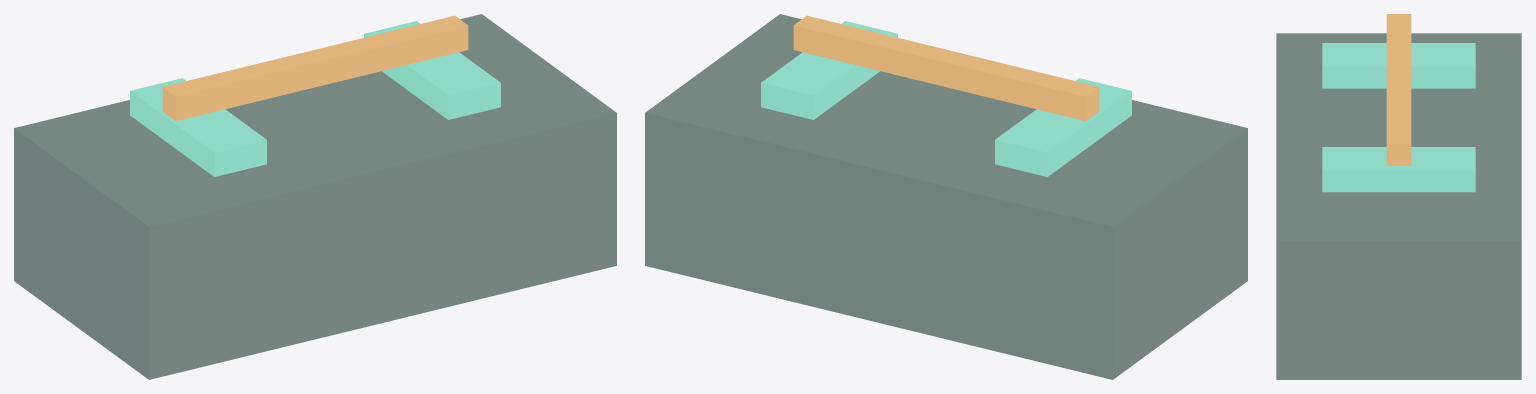
The picture shows the model from 3 angles, left to right: view 1: azimuth 30°, elevation 25°; view 2: azimuth 150°, elevation 25°; view 3: azimuth 270°, elevation 25°; orthographic projection. The views are drawn at different scales.
Visible parts, largest first — view 1: box, link, hasp_0, hasp_1; view 2: box, link, hasp_0, hasp_1; view 3: box, hasp_1, hasp_0, link.
Boxes of the visible parts, x1,y1,x2,y2 form: box: [14, 14, 616, 379]; link: [162, 15, 468, 121]; hasp_0: [130, 78, 266, 176]; hasp_1: [364, 21, 500, 119]; box: [645, 14, 1247, 379]; link: [793, 15, 1099, 121]; hasp_0: [995, 78, 1131, 176]; hasp_1: [761, 21, 897, 119]; box: [1276, 33, 1521, 379]; hasp_1: [1322, 147, 1475, 192]; hasp_0: [1322, 43, 1475, 88]; link: [1386, 14, 1411, 165].
Size of the model in its own units: 1.6 by 0.71 by 0.8.
